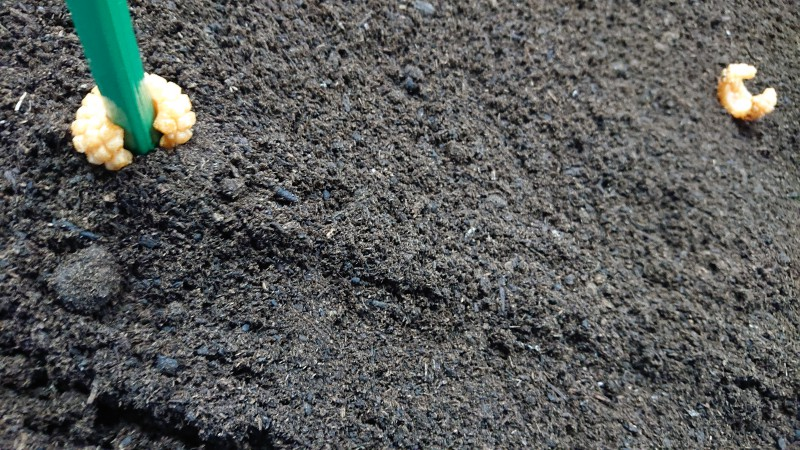eggs: (68, 67, 200, 177), (714, 59, 780, 123)
